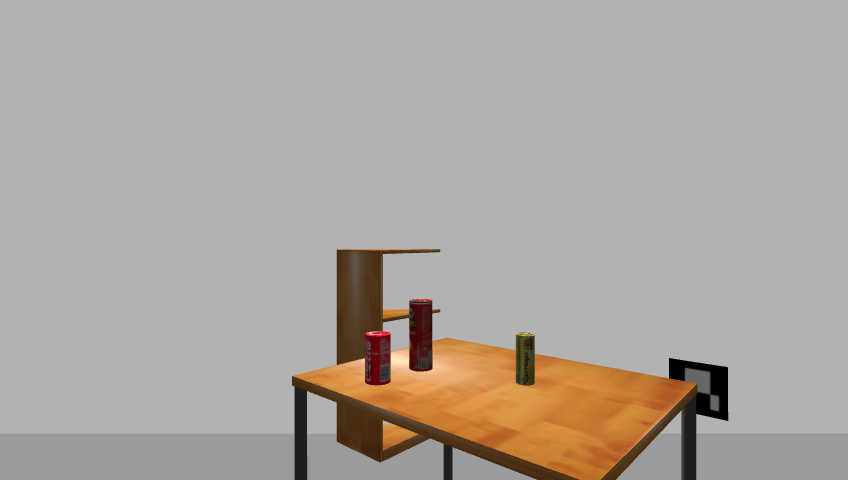aruco marker: (664, 356, 733, 422)
biscuits pack: (514, 332, 536, 387)
bookshelf: (330, 244, 445, 467)
coke can: (363, 331, 393, 386)
dinner table: (286, 338, 707, 479)
pringles can: (407, 298, 434, 374)
